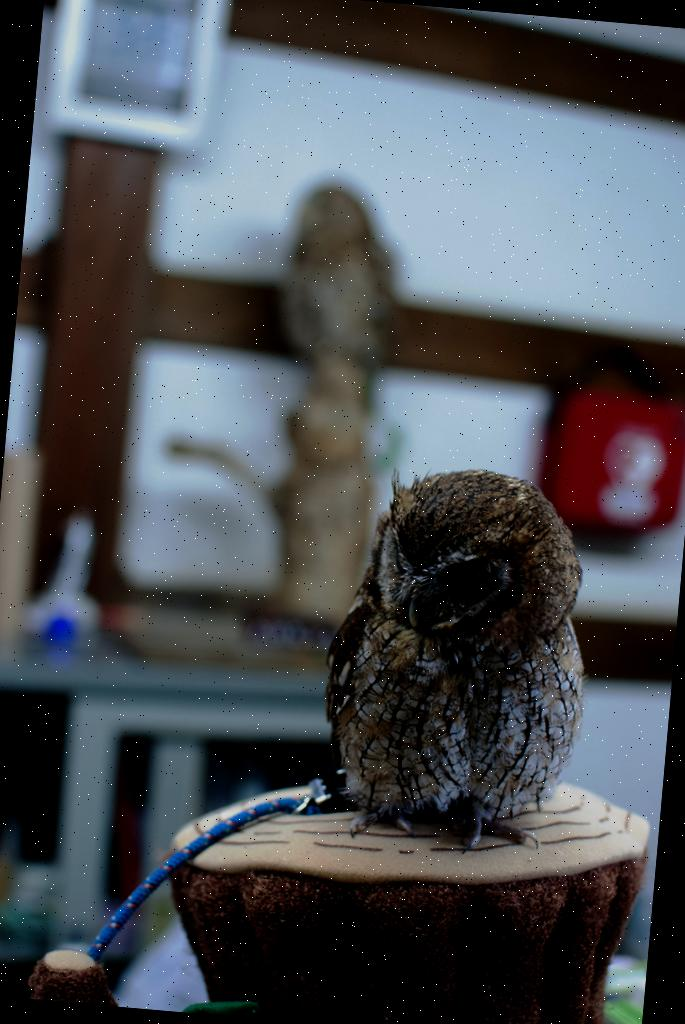Owl: (292, 442, 610, 870), (252, 166, 432, 410)
